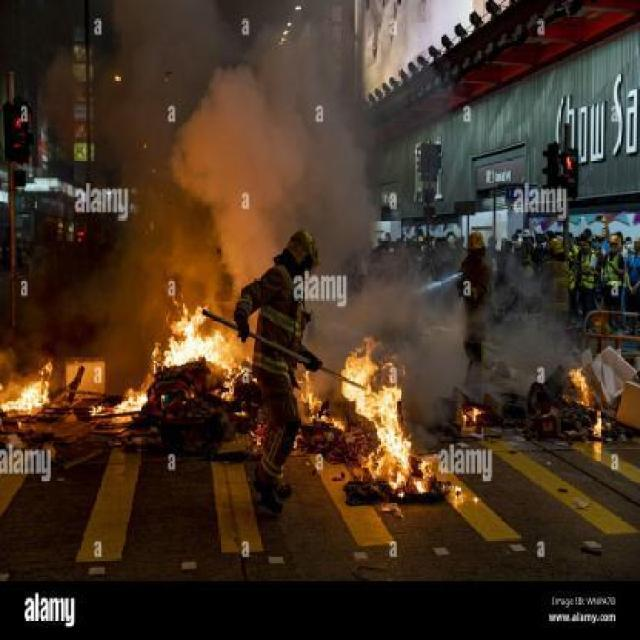Fire: (340, 342, 412, 510), (168, 294, 220, 370), (0, 366, 54, 420), (113, 374, 152, 424), (568, 363, 592, 411), (590, 422, 604, 444)
Smoke: (172, 83, 306, 199), (256, 199, 382, 253)
